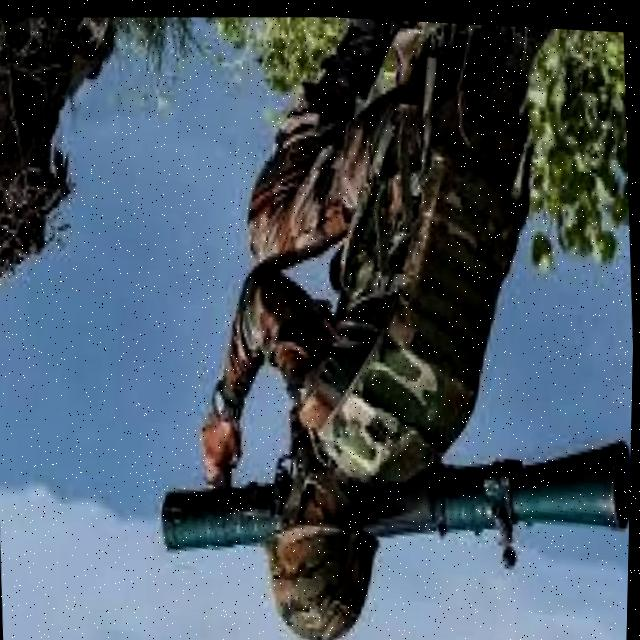rocket: (153, 370, 634, 620)
